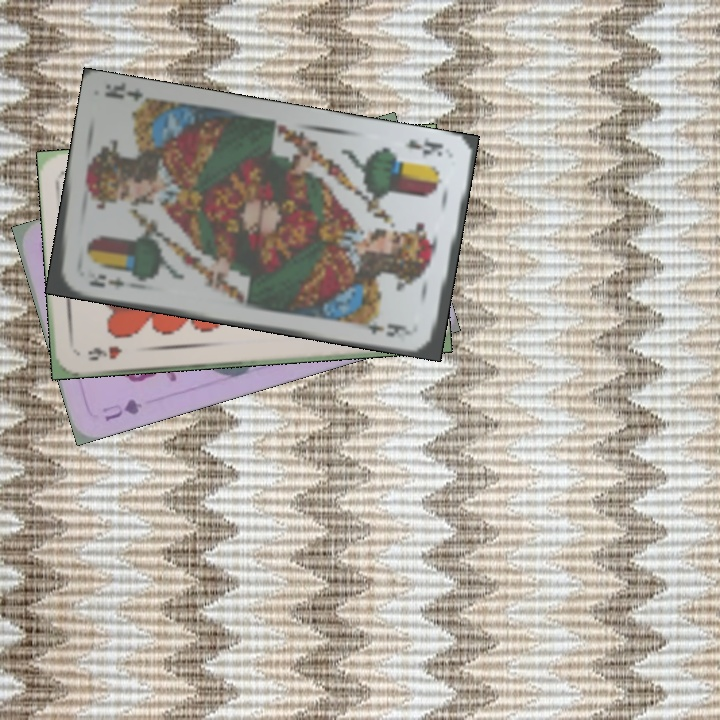EK: (401, 134, 445, 159), (85, 270, 126, 293)
GU: (98, 394, 145, 425)
H9: (83, 341, 124, 363)
